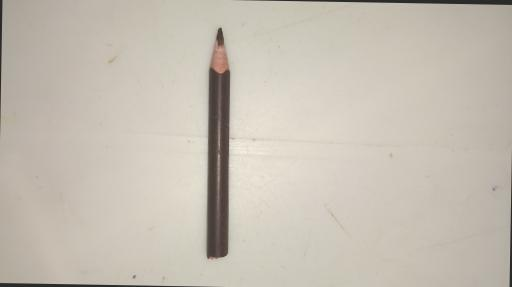Pencil: (205, 23, 232, 258)
